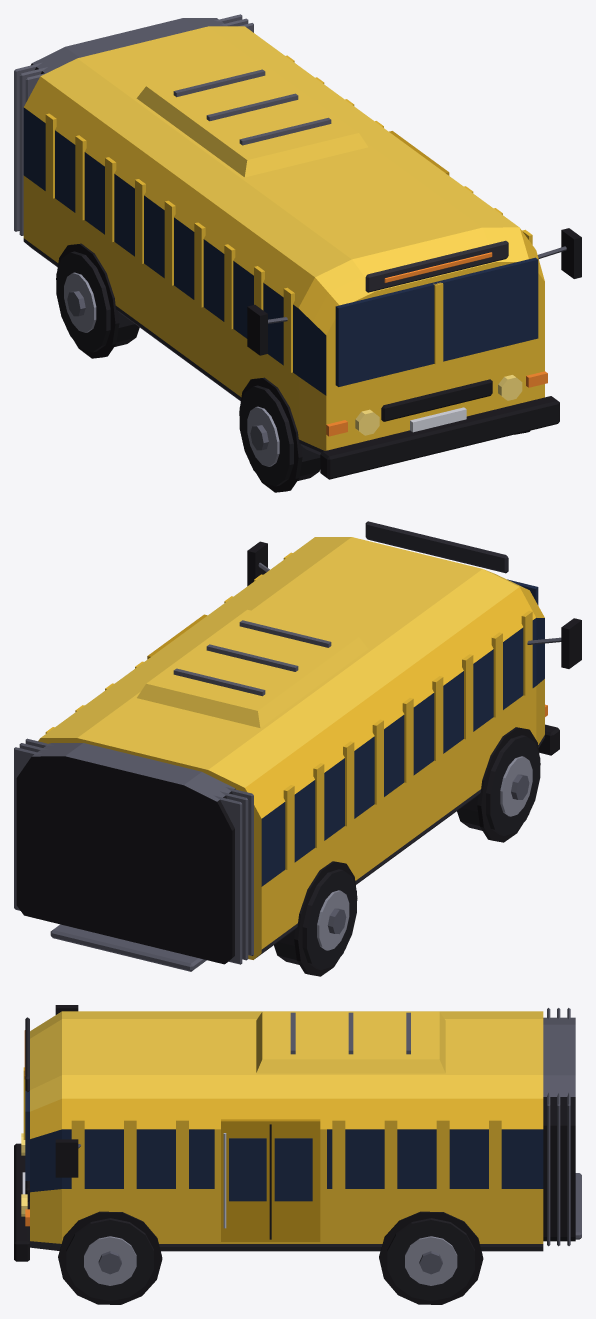
File: bus-articulated-front.glb
The picture shows the model from 3 angles, top to bottom: view 1: azimuth 30°, elevation 25°; view 2: azimuth 150°, elevation 25°; view 3: azimuth 270°, elevation 25°; orthographic projection. The views are drawn at different scales.
Parts seen in each view (by area): view 1: BusArticulatedFront; view 2: BusArticulatedFront; view 3: BusArticulatedFront.
Boxes of the visible parts, left/top/right/bottom form: BusArticulatedFront: left=14, top=14, right=581, bottom=492; BusArticulatedFront: left=14, top=521, right=581, bottom=976; BusArticulatedFront: left=14, top=1005, right=581, bottom=1304.
Size of the model in its own units: 2.03 by 1.52 by 3.54.
Materials: 1 (1 with a texture image).
